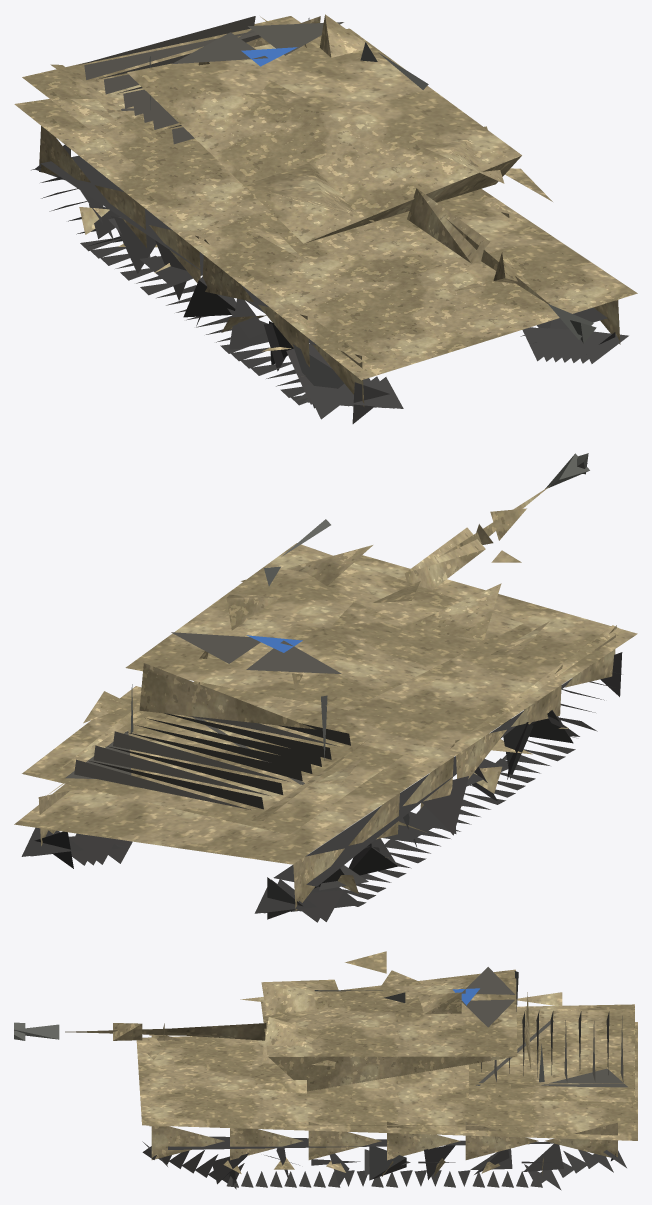
The model's file is mbt_e4_us_m1_abrams_LOD2.glb.
3 views of the same model, one above another, from view 1: azimuth 30°, elevation 25°; view 2: azimuth 150°, elevation 25°; view 3: azimuth 270°, elevation 25° (orthographic). The views are drawn at different scales.
Visible parts, largest first — view 1: mbt_e4_us_m1_abrams_LOD2_body, mbt_e4_us_m1_abrams_LOD2_track, mbt_e4_us_m1_abrams_LOD2_deck, mbt_e4_us_m1_abrams_LOD2_gun; view 2: mbt_e4_us_m1_abrams_LOD2_body, mbt_e4_us_m1_abrams_LOD2_track, mbt_e4_us_m1_abrams_LOD2_deck, mbt_e4_us_m1_abrams_LOD2_gun; view 3: mbt_e4_us_m1_abrams_LOD2_body, mbt_e4_us_m1_abrams_LOD2_track, mbt_e4_us_m1_abrams_LOD2_deck, mbt_e4_us_m1_abrams_LOD2_gun.
Part boxes in pixels (<box>): mbt_e4_us_m1_abrams_LOD2_body: <box>14,14,637,406</box>; mbt_e4_us_m1_abrams_LOD2_track: <box>31,145,628,423</box>; mbt_e4_us_m1_abrams_LOD2_deck: <box>78,16,343,144</box>; mbt_e4_us_m1_abrams_LOD2_gun: <box>149,18,596,343</box>; mbt_e4_us_m1_abrams_LOD2_body: <box>14,485,637,911</box>; mbt_e4_us_m1_abrams_LOD2_track: <box>21,652,622,922</box>; mbt_e4_us_m1_abrams_LOD2_deck: <box>65,632,350,809</box>; mbt_e4_us_m1_abrams_LOD2_gun: <box>130,453,589,760</box>; mbt_e4_us_m1_abrams_LOD2_body: <box>65,951,637,1176</box>; mbt_e4_us_m1_abrams_LOD2_track: <box>142,1136,626,1190</box>; mbt_e4_us_m1_abrams_LOD2_deck: <box>461,967,627,1087</box>; mbt_e4_us_m1_abrams_LOD2_gun: <box>14,971,544,1082</box>.
Size of the model in its own units: 3.66 by 3 by 9.77.
Materials: 6 (1 with a texture image).
